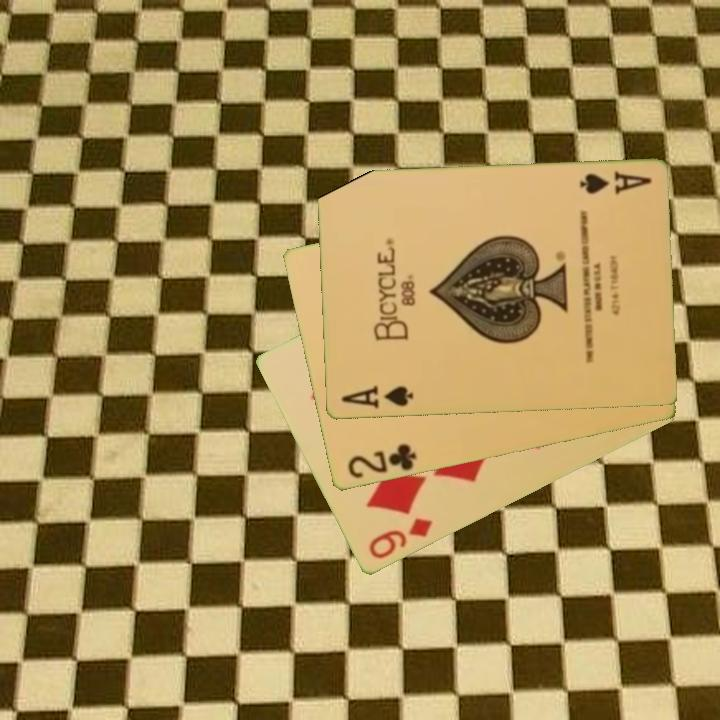2c: (344, 440, 419, 482)
9d: (365, 515, 435, 563)
As: (337, 382, 416, 413), (575, 168, 654, 197)
